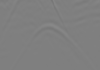hyperbola: (25, 23, 83, 61)
